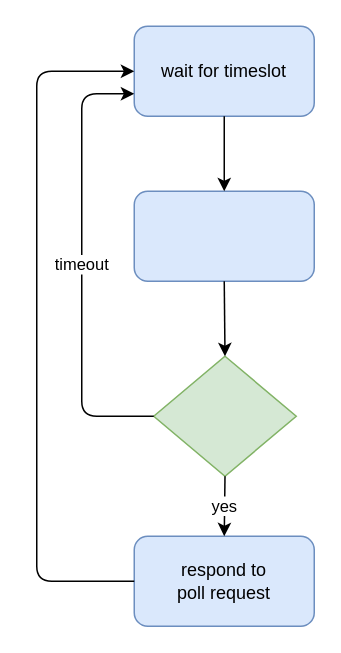
The diagram is 341 pixels wide and 653 high, and some of its shapes have lost their labels. Each missing label, with the centre of its shape:
"poll recv" belongs at pixel 224 415.
"wait for range poll" belongs at pixel 223 235.
